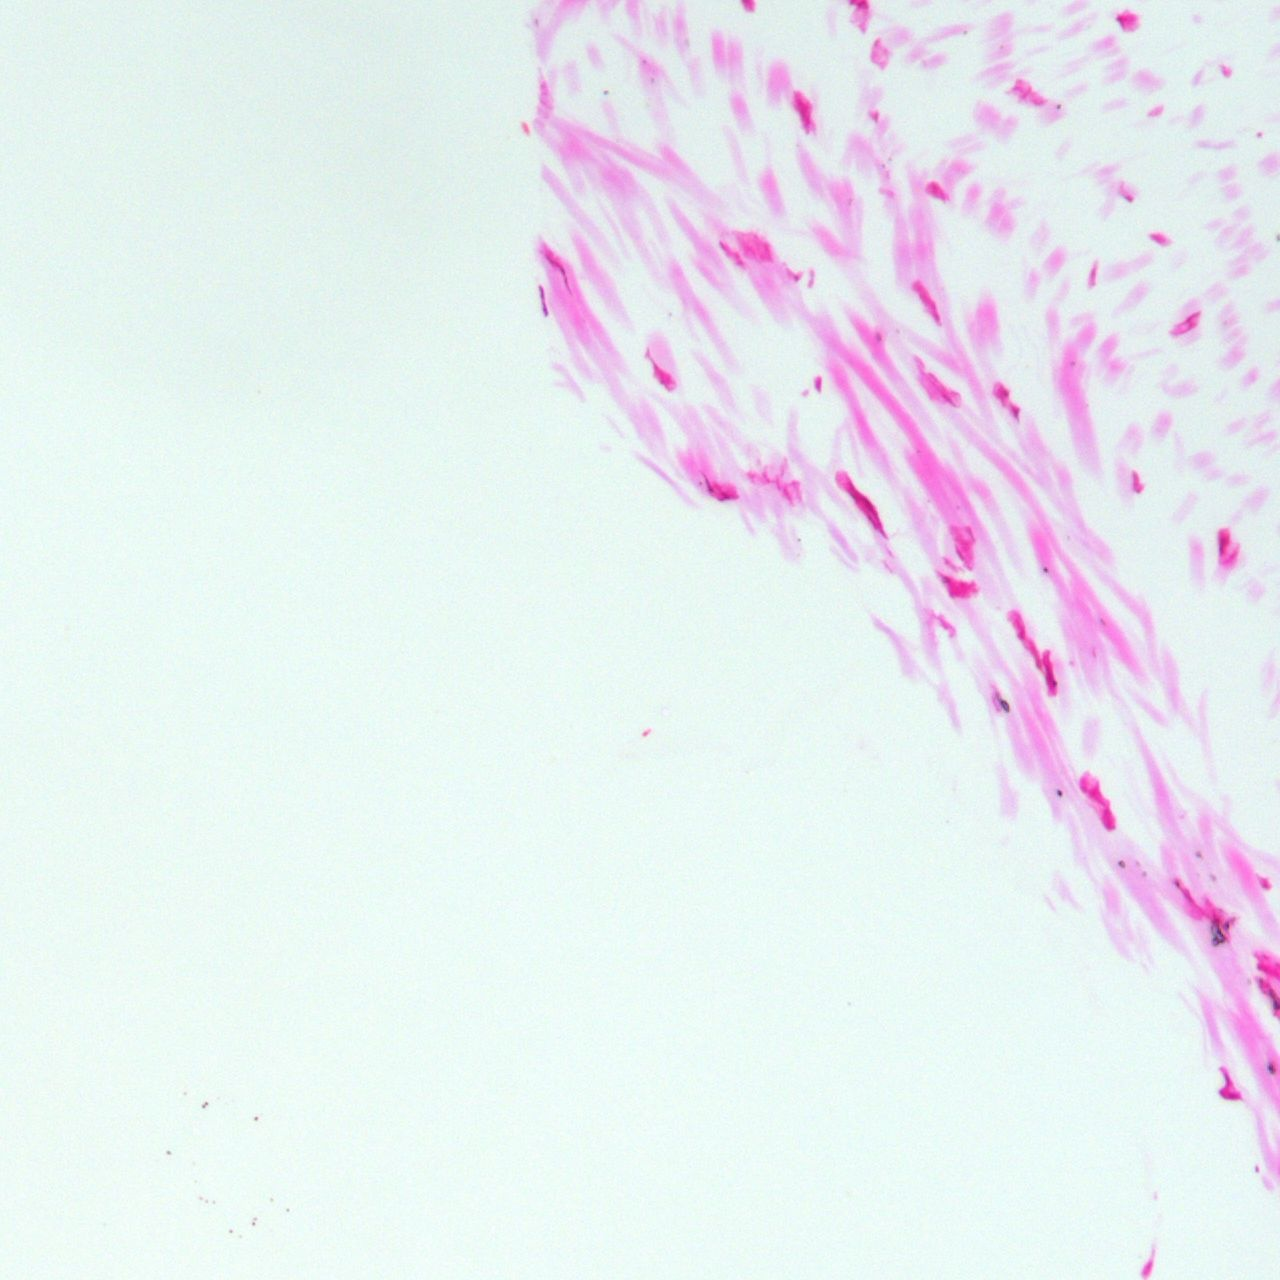dust: (1210, 922, 1225, 945), (1269, 990, 1279, 1012), (1257, 976, 1266, 993), (1000, 699, 1010, 712), (1266, 1063, 1275, 1075), (1223, 919, 1230, 933), (1069, 360, 1078, 369), (874, 333, 883, 342), (200, 1099, 209, 1109), (253, 1114, 260, 1124), (1208, 873, 1217, 881), (1257, 131, 1265, 139), (1055, 788, 1062, 797), (1118, 860, 1125, 869), (1099, 617, 1107, 625), (667, 311, 674, 319), (602, 88, 610, 96), (998, 43, 1005, 52), (1196, 851, 1203, 858), (1255, 964, 1262, 971), (648, 77, 655, 84), (642, 57, 649, 64), (1056, 103, 1063, 110), (165, 1149, 172, 1156), (1041, 566, 1049, 572), (1173, 879, 1178, 888), (886, 156, 894, 161), (1141, 870, 1146, 876), (961, 29, 968, 34), (204, 1197, 209, 1204), (796, 536, 801, 542), (880, 163, 885, 169), (198, 1194, 203, 1200), (268, 1197, 274, 1201), (229, 1228, 233, 1233), (251, 1221, 256, 1226), (1133, 862, 1139, 865), (285, 1208, 290, 1212), (211, 1199, 215, 1203)
nucleus-FG: (847, 478, 888, 531), (639, 348, 678, 393), (846, 486, 881, 535), (542, 248, 576, 297), (911, 281, 944, 325), (790, 91, 813, 134), (716, 238, 743, 268), (1219, 1067, 1242, 1101), (938, 570, 960, 600), (1088, 781, 1112, 806), (1043, 654, 1057, 696), (1170, 319, 1198, 340), (1176, 309, 1201, 329), (1028, 642, 1043, 672), (1012, 614, 1027, 640), (537, 284, 549, 316), (1217, 527, 1230, 557), (1102, 808, 1116, 829), (1131, 470, 1143, 495), (1257, 876, 1273, 892), (995, 384, 1009, 403), (701, 474, 713, 493), (781, 486, 792, 505), (1010, 406, 1021, 421), (1150, 233, 1165, 244), (813, 375, 822, 393), (1117, 15, 1126, 30), (719, 495, 738, 502), (1123, 195, 1133, 202), (794, 275, 801, 281)
